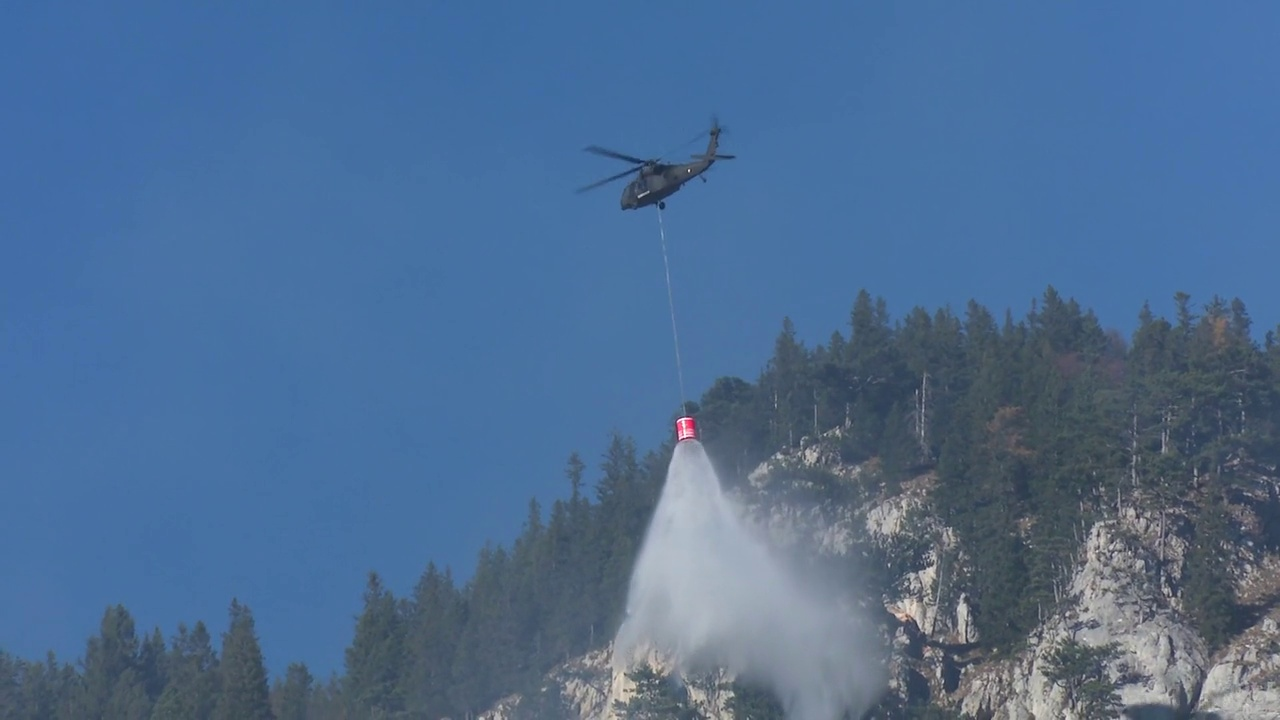heli: (575, 119, 735, 213)
